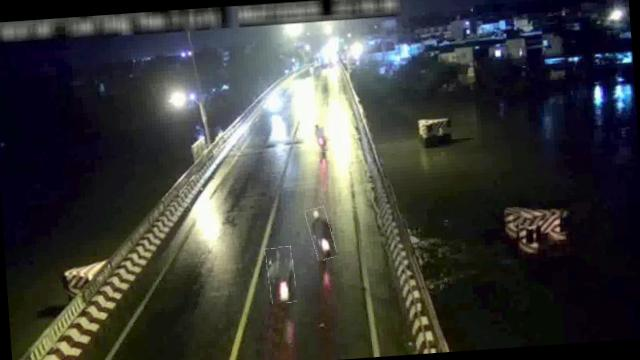Bike: (265, 246, 296, 304), (306, 206, 335, 261), (314, 123, 328, 153)
